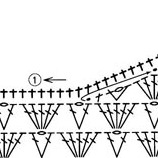enseble_chain: (108, 96, 146, 136), (34, 99, 70, 136), (136, 85, 158, 136), (73, 127, 108, 158), (93, 98, 121, 134), (0, 129, 32, 158), (70, 102, 98, 133), (130, 128, 158, 158), (107, 130, 136, 158), (132, 75, 158, 105), (34, 131, 61, 158), (0, 102, 22, 134), (106, 80, 133, 103), (27, 102, 48, 131)
fan: (70, 132, 86, 158), (146, 131, 158, 158)
